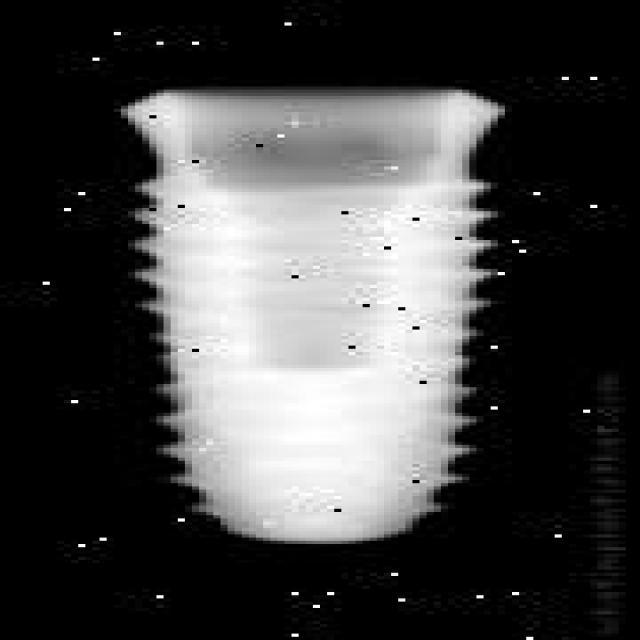Titan Implant Implant: (114, 84, 505, 551)
